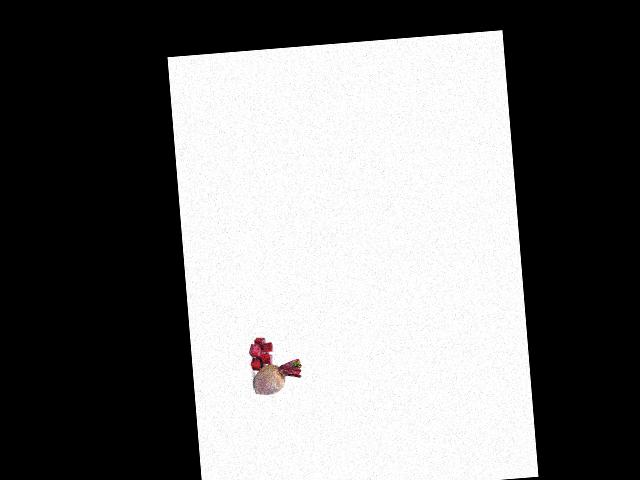beet: (251, 358, 303, 395)
